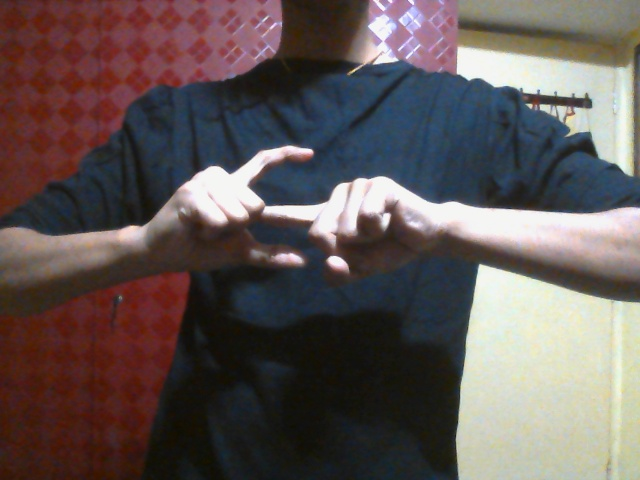E: (178, 141, 438, 297)
